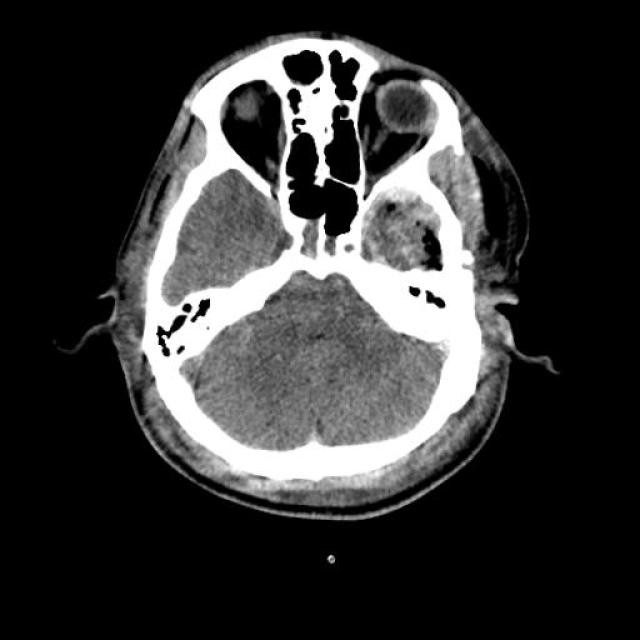Subdural: (358, 184, 452, 230)
